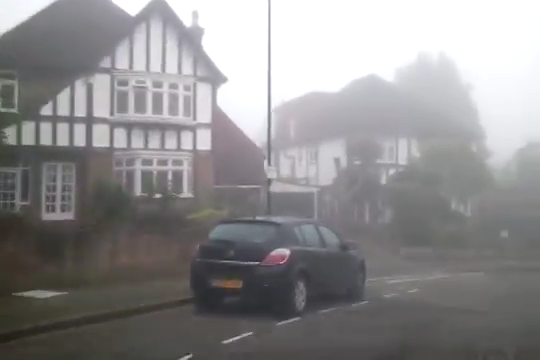car: (186, 211, 369, 319)
